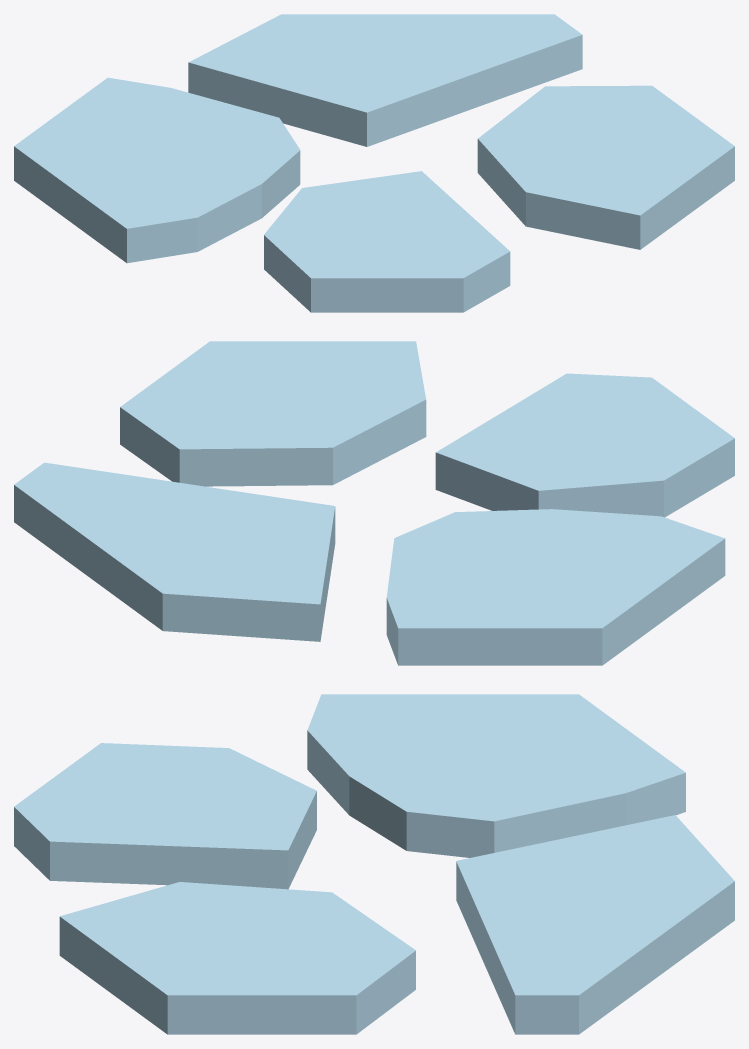
File: TileHex_31.fbx
3 renders of one model, top to bottom at view 1: azimuth 30°, elevation 25°; view 2: azimuth 150°, elevation 25°; view 3: azimuth 270°, elevation 25°, orthographic. The views are drawn at different scales.
Parts seen in each view (by area): view 1: TileHex_31; view 2: TileHex_31; view 3: TileHex_31.
Boxes of the visible parts, box(x1,y1,x2,y2) form: TileHex_31: box(14, 14, 734, 312); TileHex_31: box(14, 341, 734, 665); TileHex_31: box(14, 694, 734, 1034).
Bounding box in the file's own units: 391 × 23.79 × 396.
